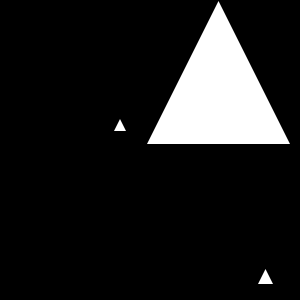triangle: (147, 1, 290, 144), (258, 269, 273, 284), (114, 119, 126, 131)
